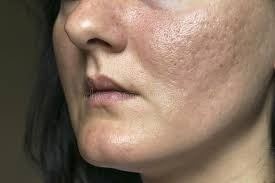Melasma: (125, 4, 250, 82)
